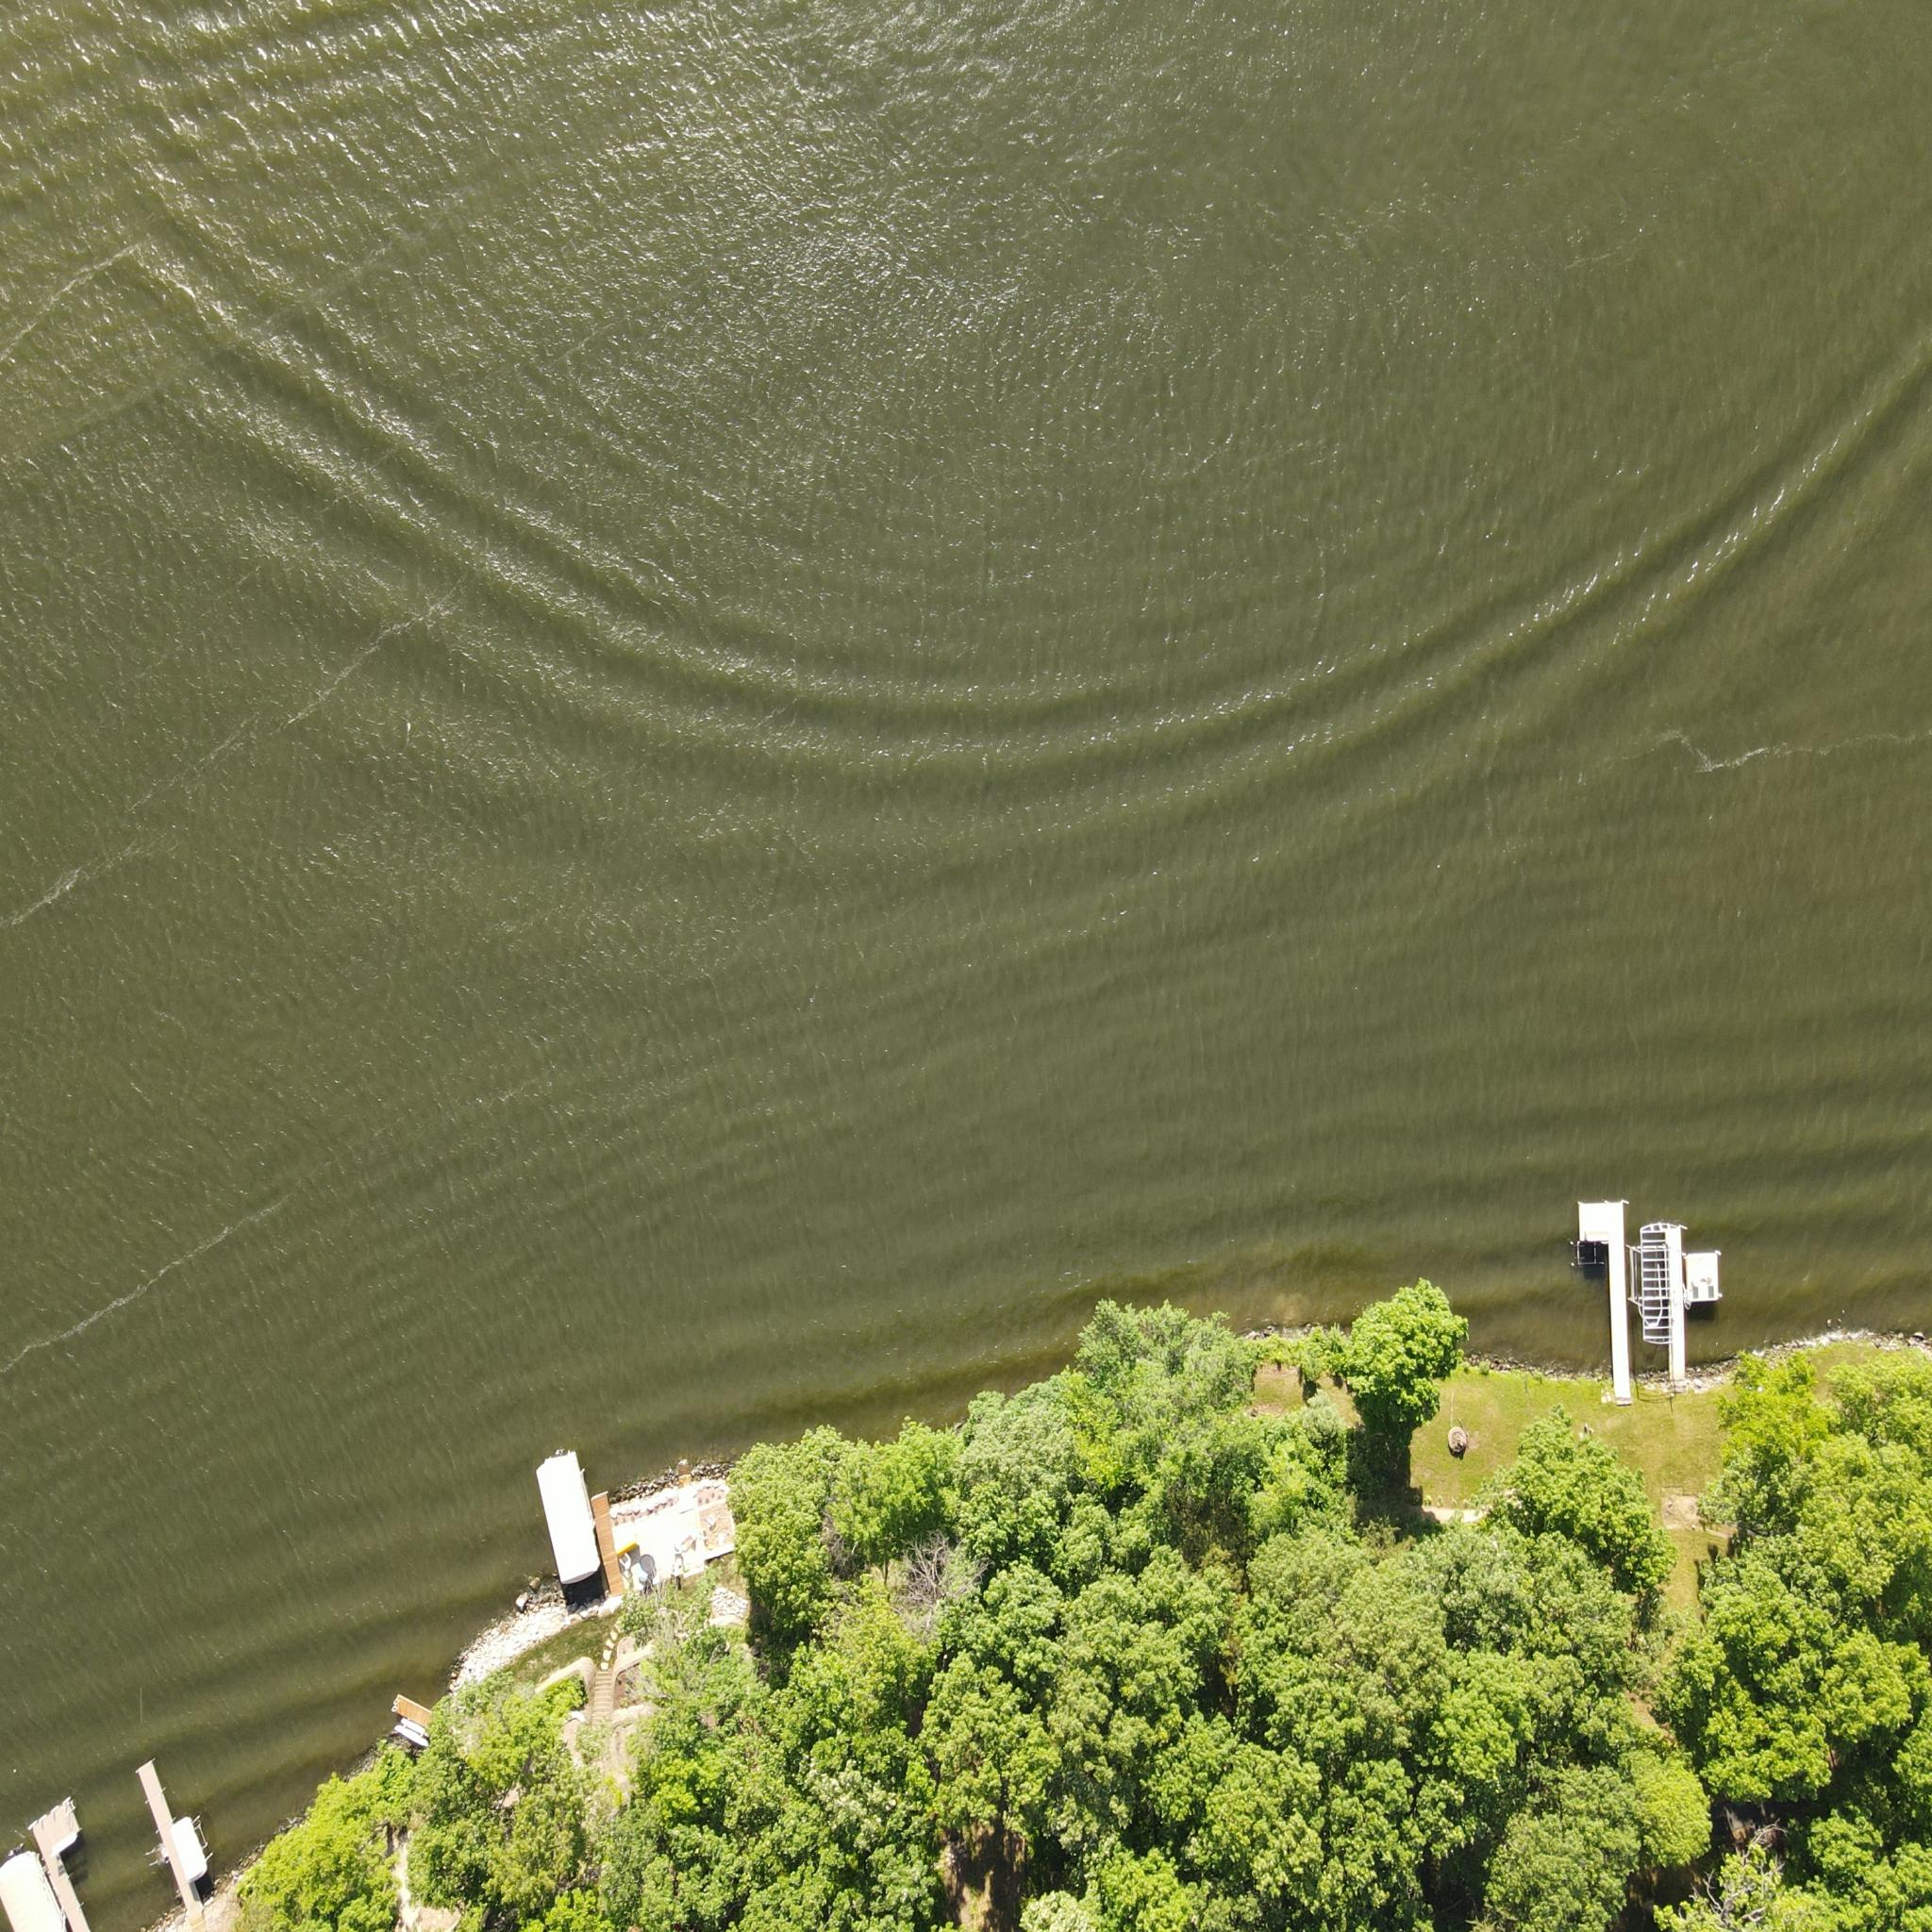dock: (1576, 1194, 1635, 1401), (138, 1759, 207, 1918), (30, 1794, 110, 1932), (589, 1491, 632, 1601), (1667, 1223, 1693, 1394), (393, 1686, 441, 1736)
lift: (538, 1438, 605, 1578), (1628, 1214, 1683, 1353), (0, 1844, 73, 1930), (170, 1813, 211, 1882), (1684, 1247, 1725, 1307)
